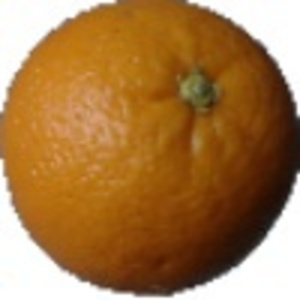laranja: (1, 1, 298, 292)
